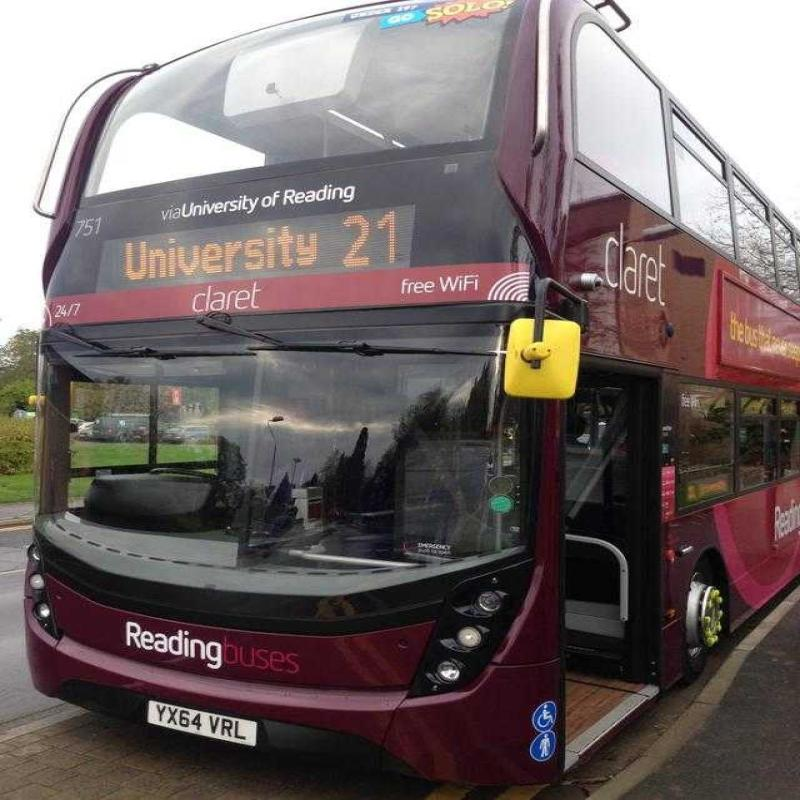bus: (38, 17, 707, 800)
